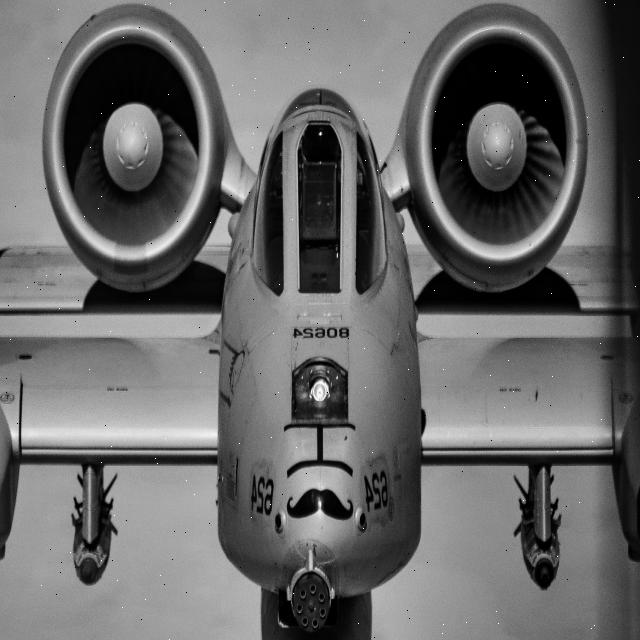A10: (0, 6, 630, 640)
